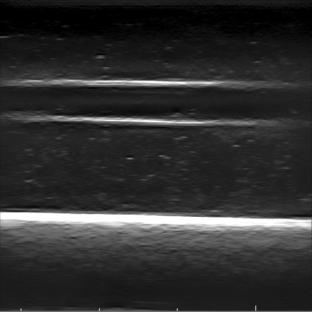vessel: (4, 78, 303, 128)
